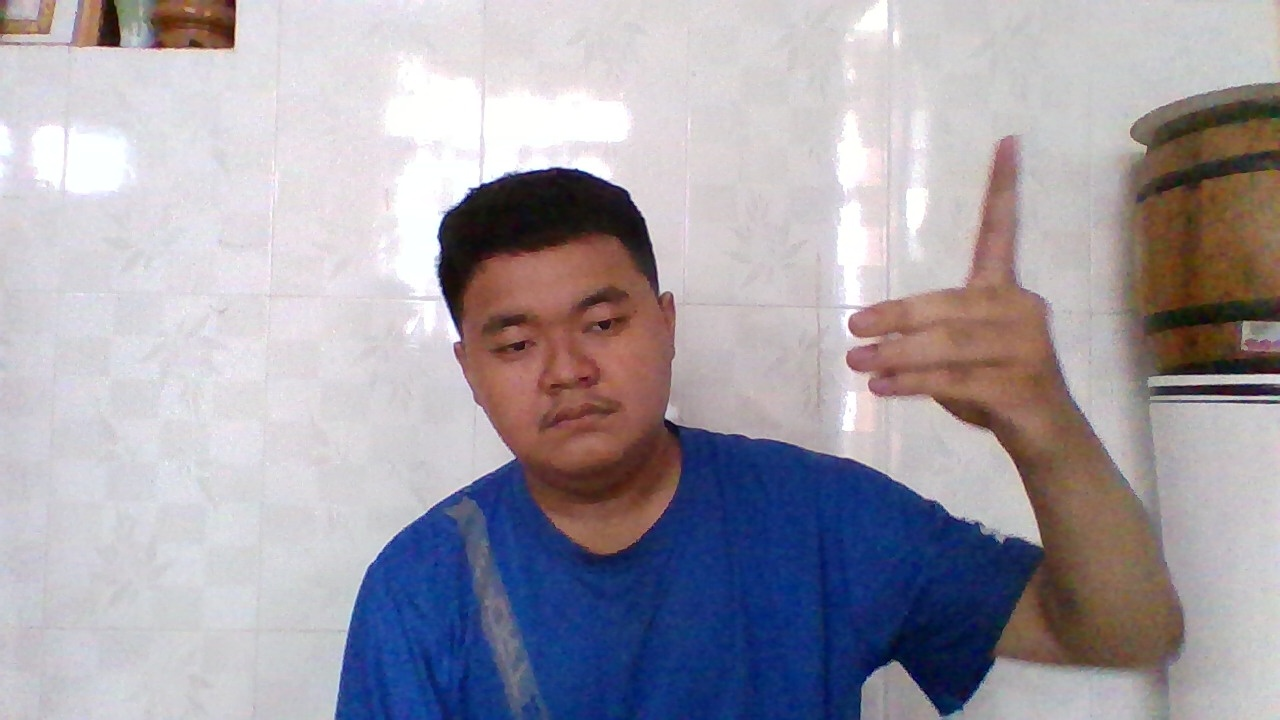D: (854, 139, 1125, 657)
